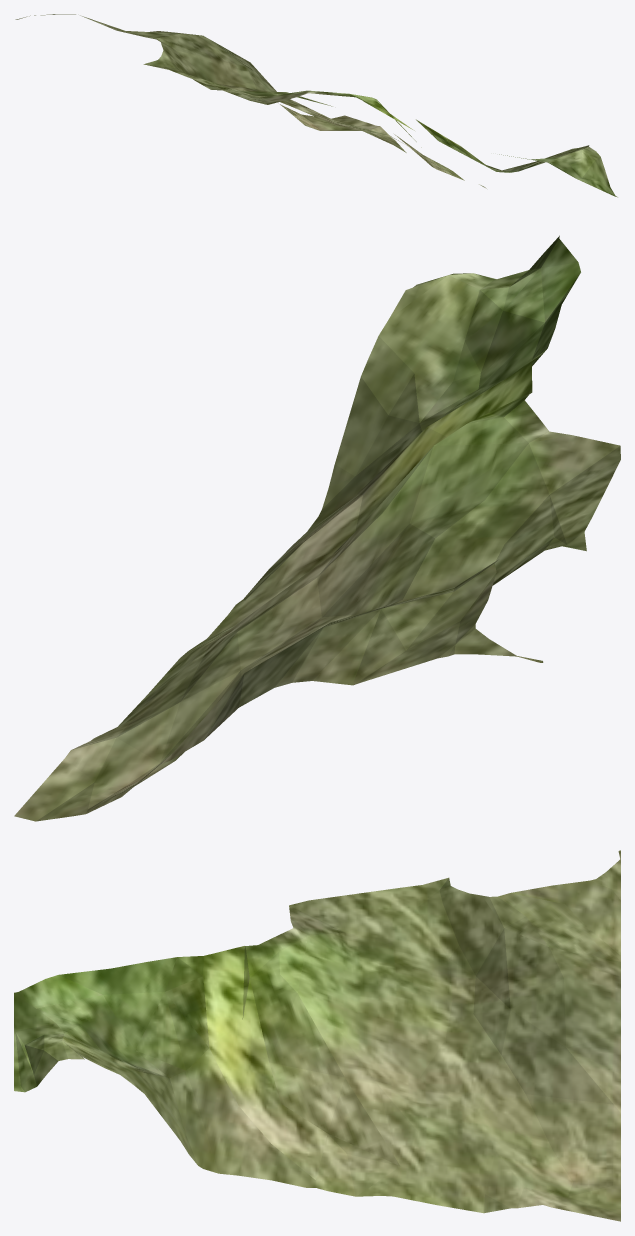
3 renders of one model, top to bottom at view 1: azimuth 30°, elevation 25°; view 2: azimuth 150°, elevation 25°; view 3: azimuth 270°, elevation 25°, orthographic. The views are drawn at different scales.
Bounding box in the file's own units: 2.04 × 1.04 × 2.95.
Materials: 1 (1 with a texture image).
